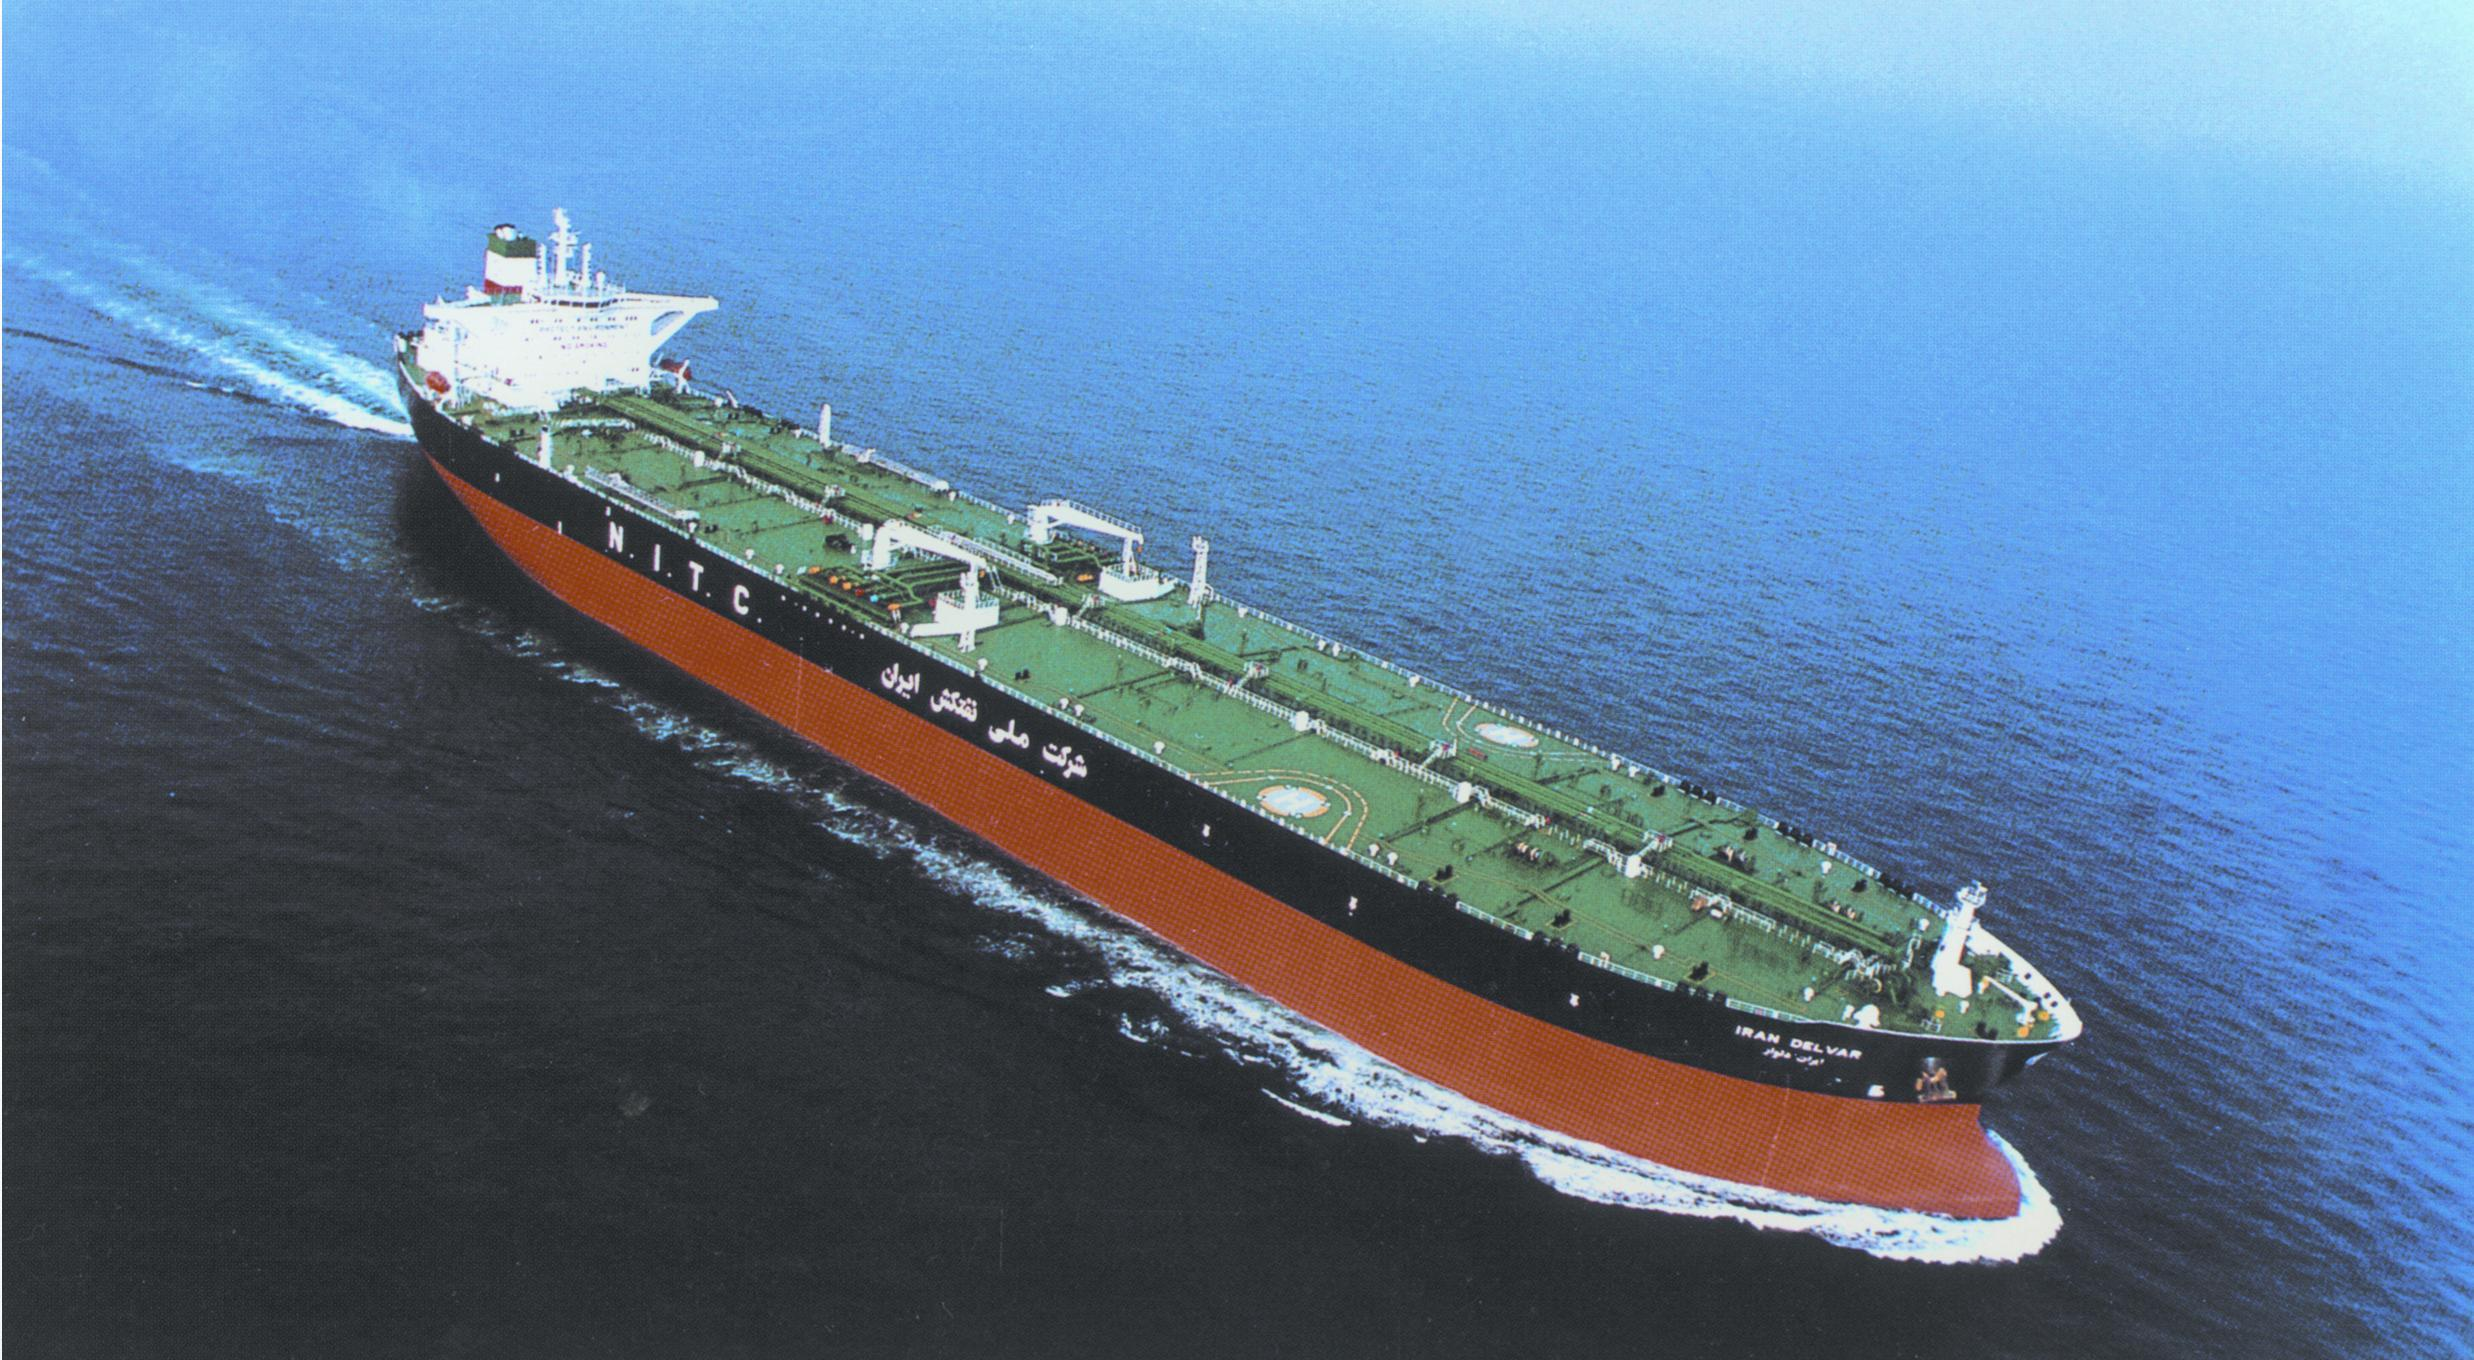Cargoship: (383, 184, 2091, 1263)
